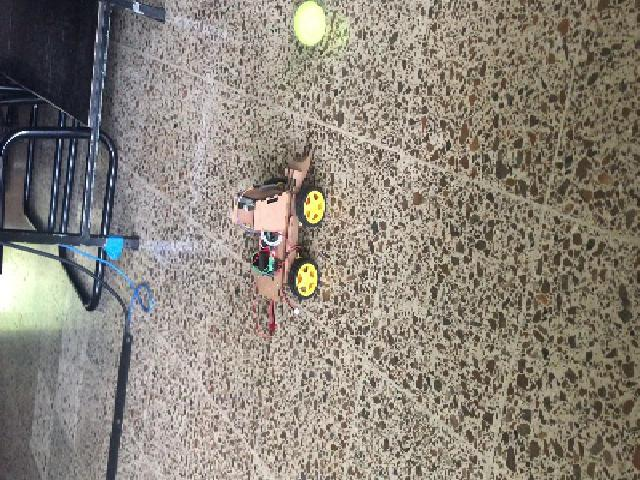Ball: (293, 1, 326, 44)
Robot: (229, 149, 325, 301)
